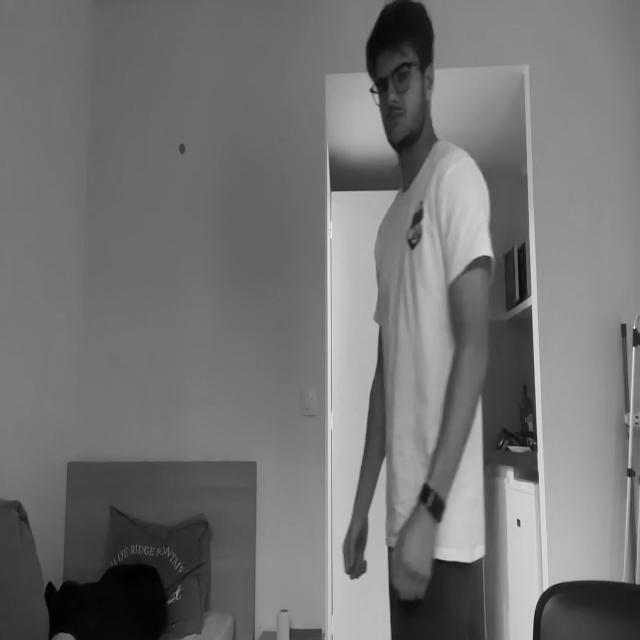elbow: (457, 331, 493, 385)
hand: (388, 498, 439, 601), (342, 510, 370, 580)
shoulder: (438, 154, 488, 233)
